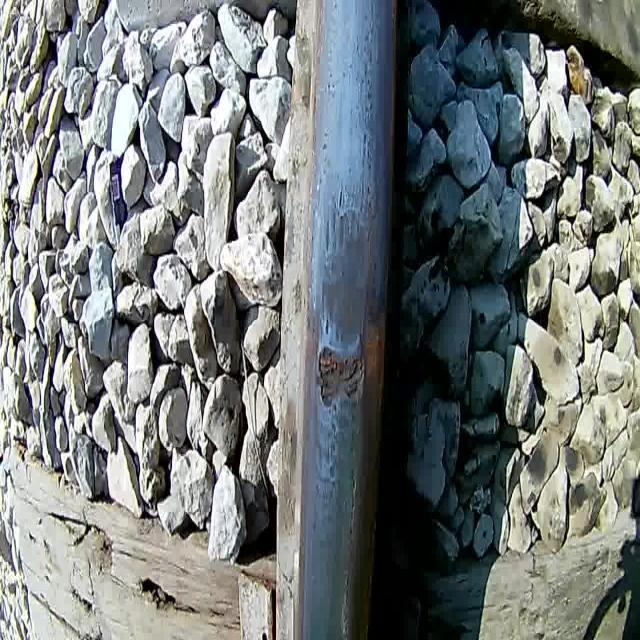Spallings: (315, 338, 368, 413)
Squats: (315, 173, 379, 351)
